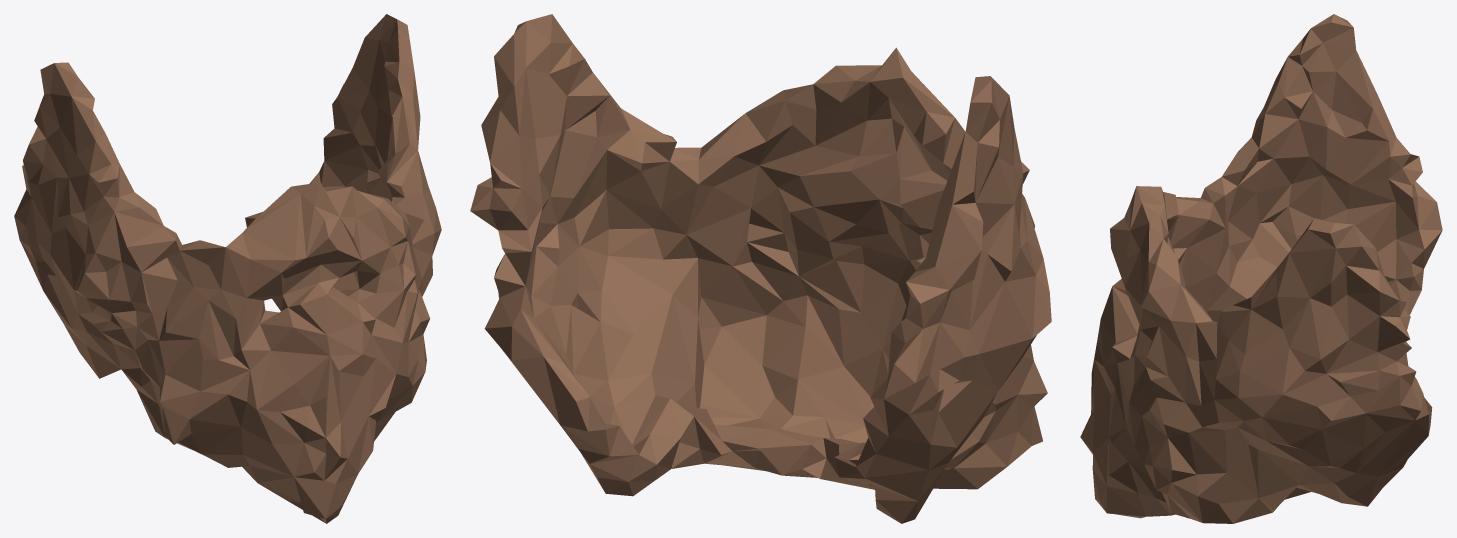
File: Beard_medium_LOD2.glb
3 views of the same model, side by side, from view 1: azimuth 30°, elevation 25°; view 2: azimuth 150°, elevation 25°; view 3: azimuth 270°, elevation 25° (orthographic). The views are drawn at different scales.
Parts seen in each view (by area): view 1: Beard_medium_LOD2; view 2: Beard_medium_LOD2; view 3: Beard_medium_LOD2.
Part boxes in pixels (box(x1,y1,x2,y2)): Beard_medium_LOD2: box(14, 14, 441, 523); Beard_medium_LOD2: box(470, 14, 1051, 523); Beard_medium_LOD2: box(1080, 14, 1442, 523).
Bounding box in the file's own units: 0.1717 × 0.1874 × 0.1462.
